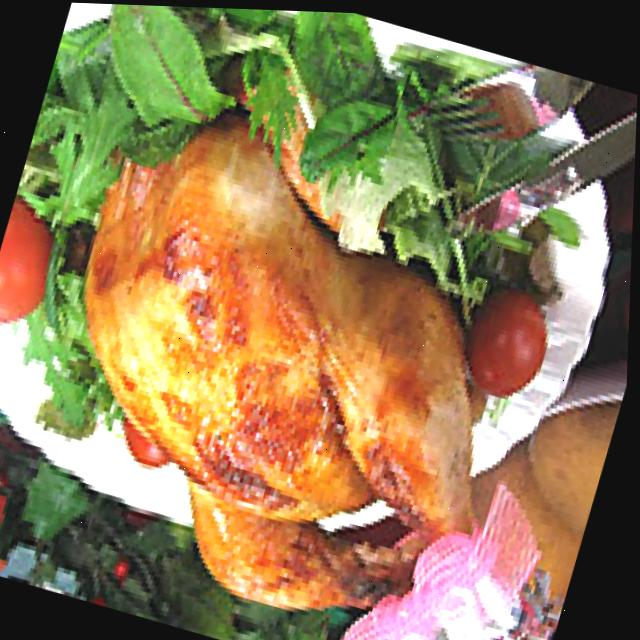鸡肉料理 含炸鸡: (0, 78, 604, 640)
